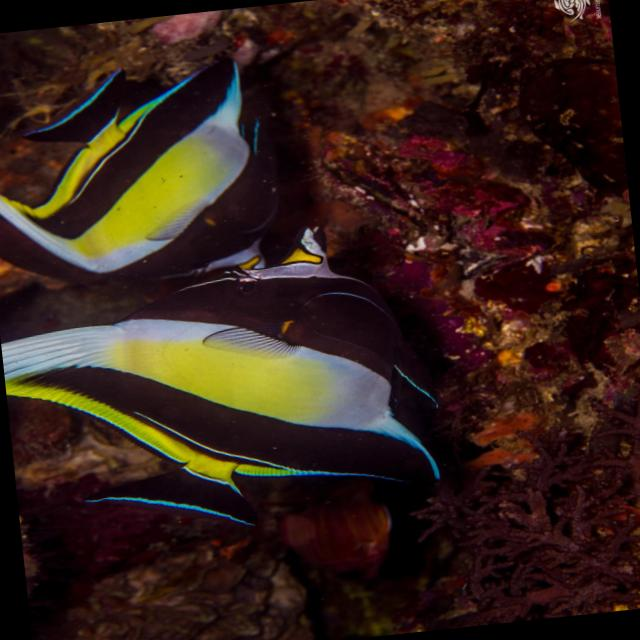MorishIdol: (0, 212, 451, 550), (0, 47, 289, 298)
